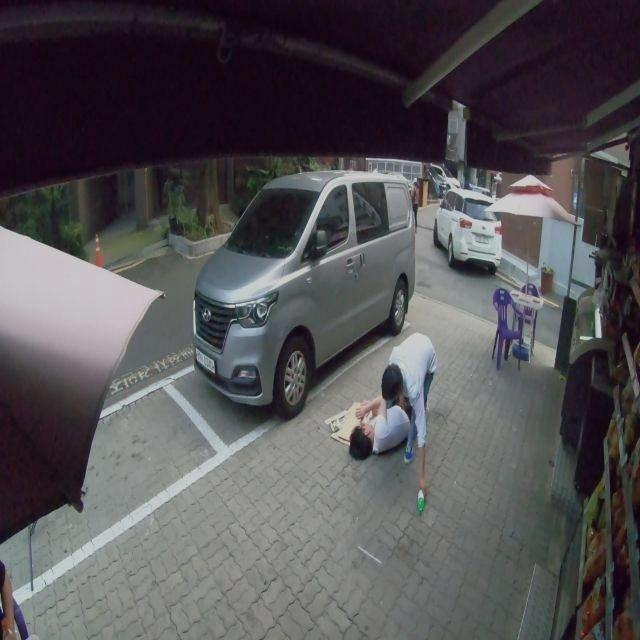fight: (331, 324, 441, 505)
